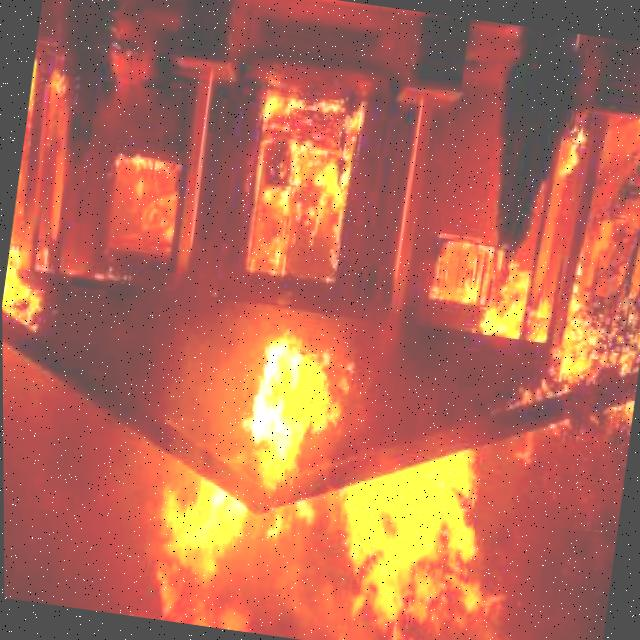Fire: (310, 442, 513, 640), (228, 65, 380, 285), (0, 0, 94, 338), (231, 313, 356, 510), (135, 463, 265, 632), (470, 263, 619, 397), (87, 128, 200, 280), (424, 238, 500, 308), (551, 108, 596, 209)
